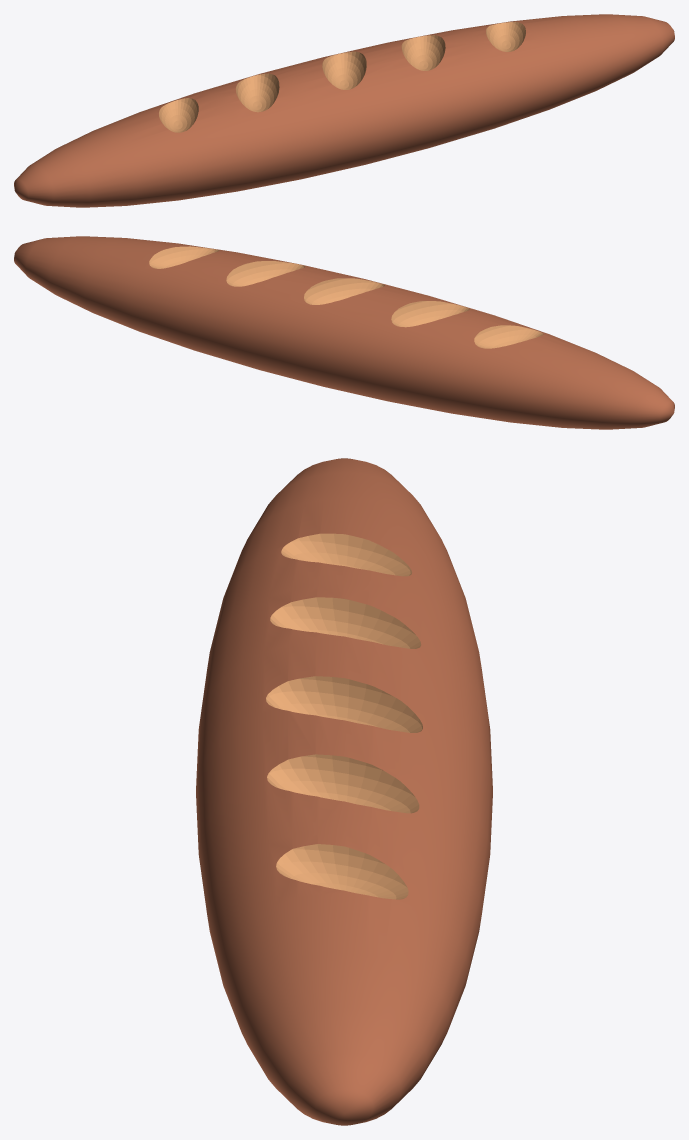
The model's file is Bread.fbx.
3 renders of one model, top to bottom at view 1: azimuth 30°, elevation 25°; view 2: azimuth 150°, elevation 25°; view 3: azimuth 270°, elevation 25°, orthographic. The views are drawn at different scales.
Parts seen in each view (by area): view 1: Bread; view 2: Bread; view 3: Bread.
Part boxes in pixels (bbox=[...]): Bread: bbox=[14, 14, 674, 207]; Bread: bbox=[14, 236, 674, 429]; Bread: bbox=[196, 458, 492, 1125].
Size of the model in its own units: 1024 by 138 by 200.
